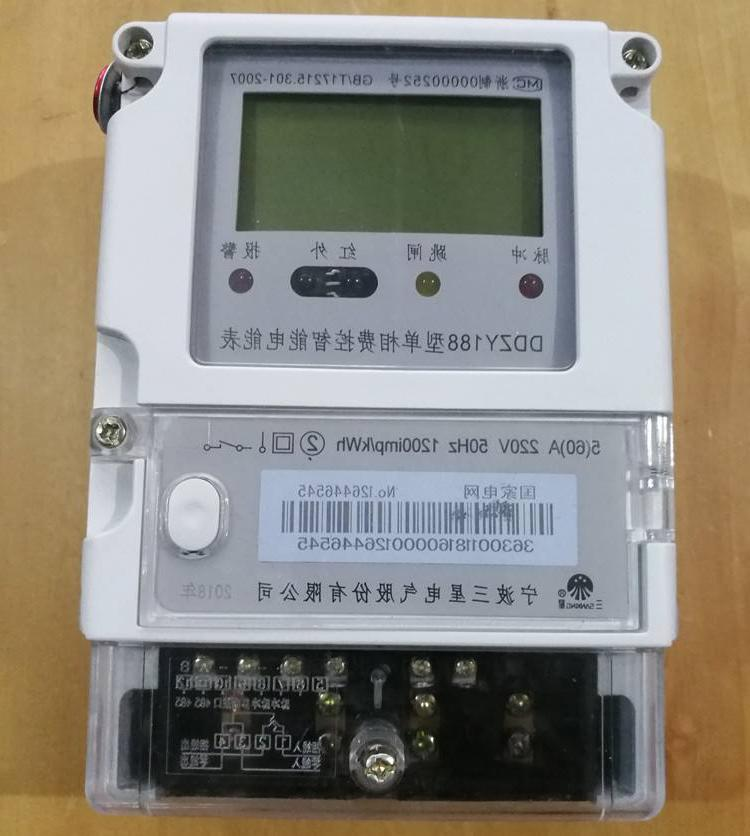digital: (80, 9, 677, 646)
